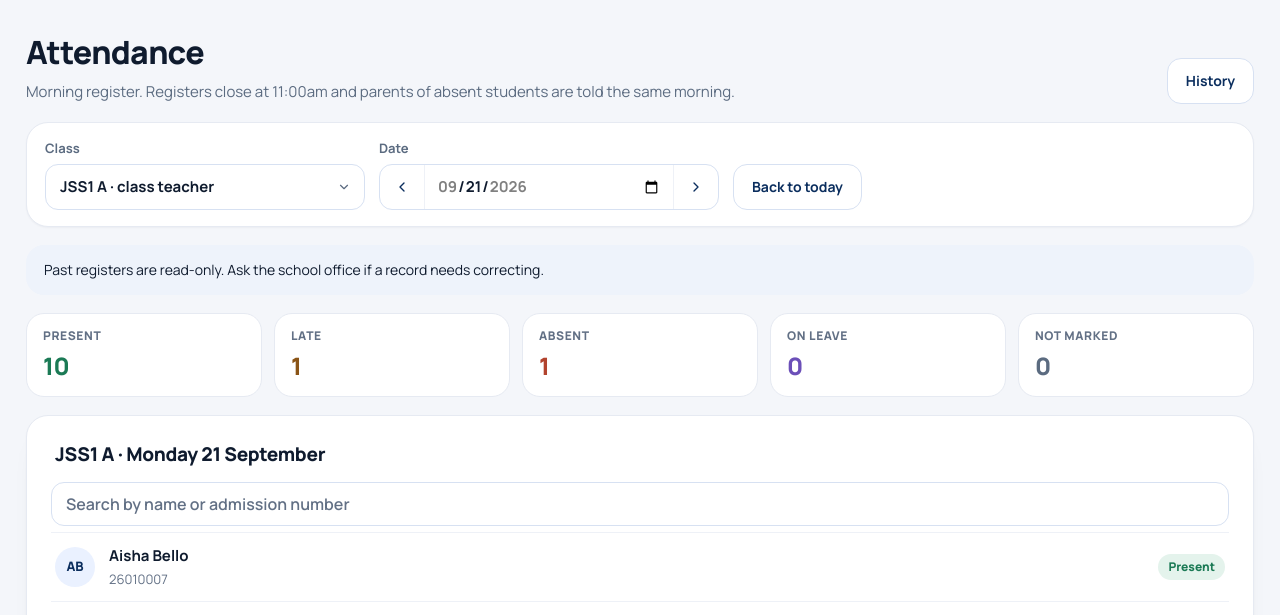
it: Attendance, other states › shows a past day read-only, steps back and forward, and goes back to today
The width and height of the screenshot is (1280, 615).
Expected: the heading "JSS1 A · Monday 21 September" is shown, left=55, top=441, right=325, bottom=467
Expected: the text "Past registers are read-only. Ask the school office if a record needs correcting." is shown, left=44, top=260, right=544, bottom=279
Click the button named "Previous school day". click: x=402, y=187
box: left=380, top=165, right=424, bottom=209
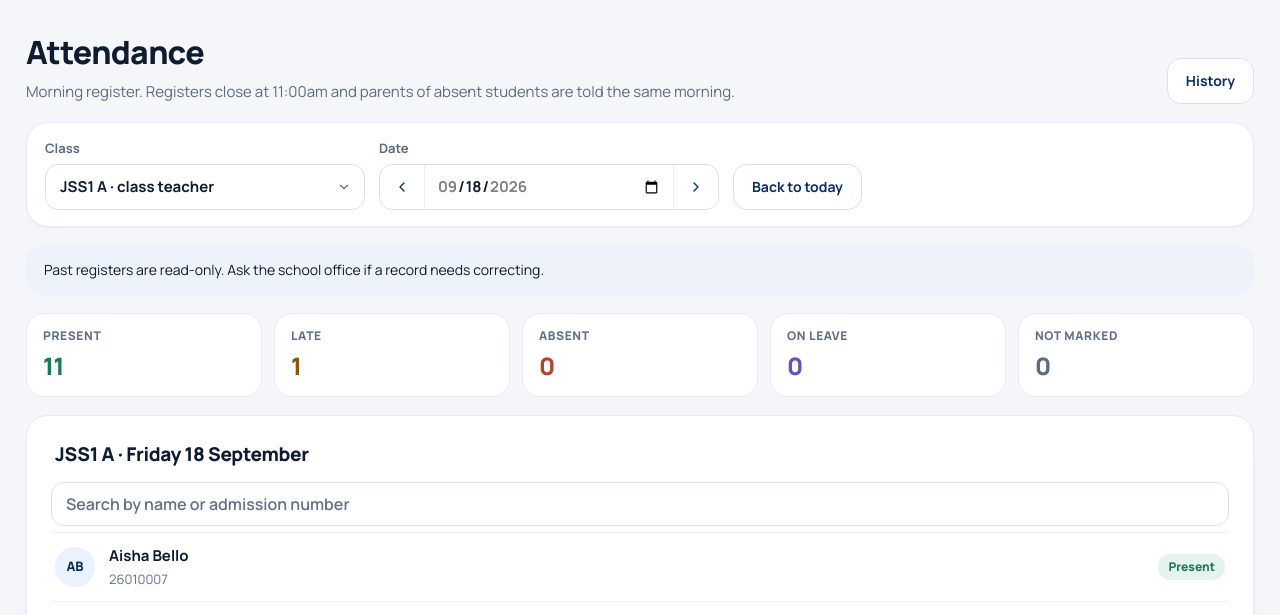
Expected: the heading "JSS1 A · Friday 18 September" is shown, left=55, top=441, right=309, bottom=467
Click the button named "Next school day". click: x=696, y=187
box: left=674, top=165, right=718, bottom=209
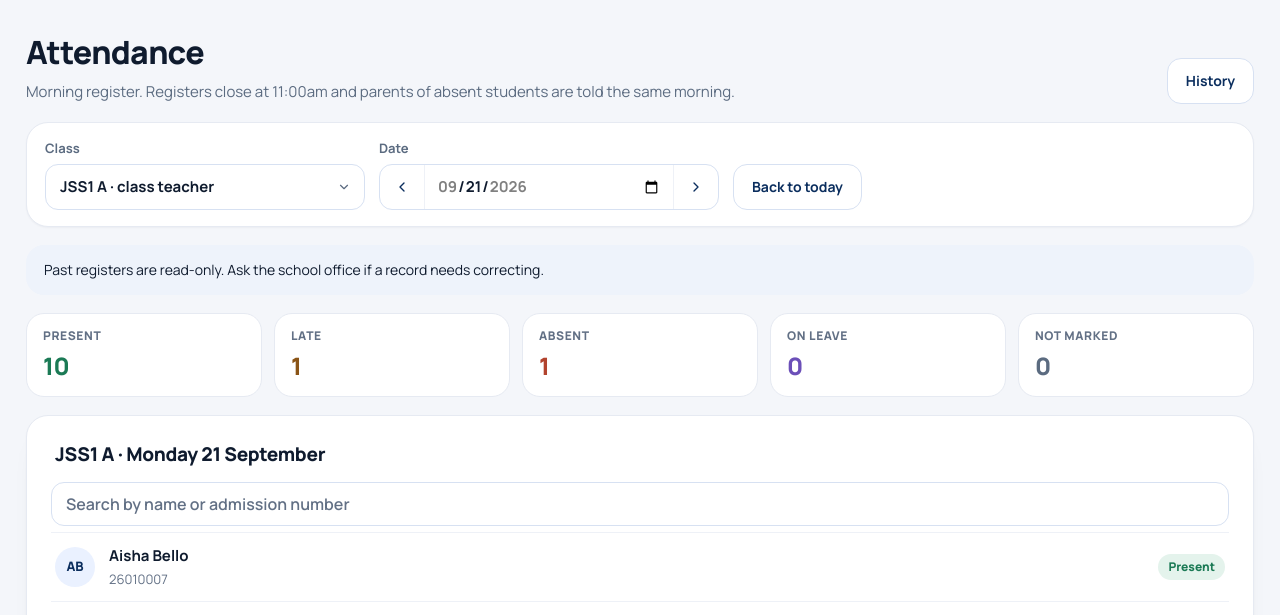
Expected: the heading "JSS1 A · Monday 21 September" is shown, left=55, top=441, right=325, bottom=467
Click the button "Back to today". click: x=797, y=187
box: left=733, top=164, right=862, bottom=210
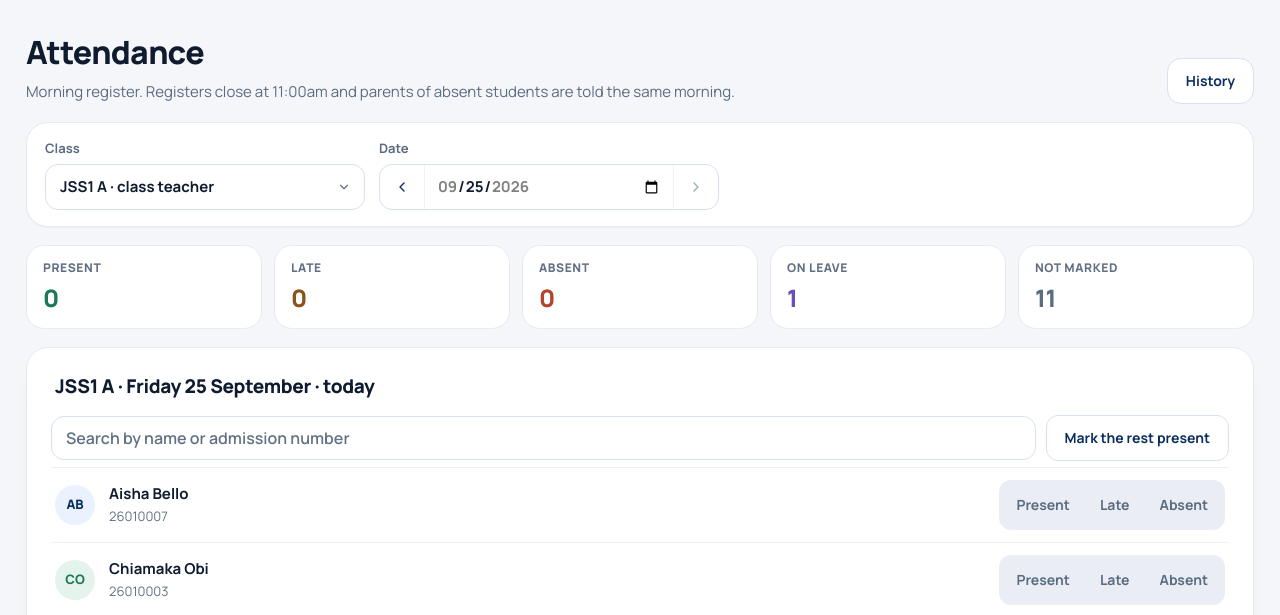
Expected: the button named "Next school day" is disabled, left=674, top=165, right=718, bottom=209
Expected: the heading "JSS1 A · Friday 25 September · today" is shown, left=55, top=373, right=375, bottom=399
